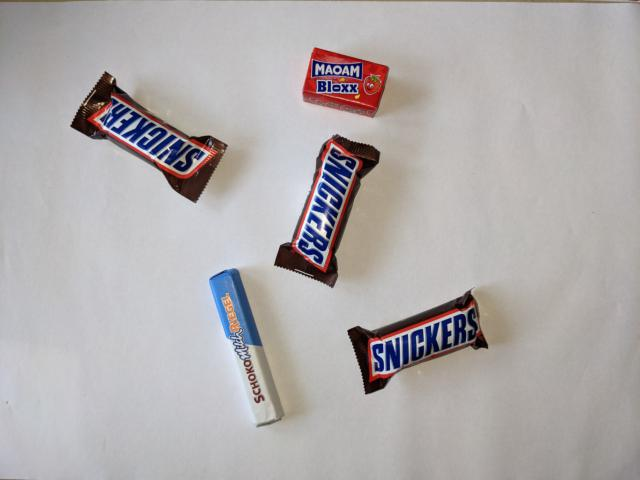MAOAM: (299, 44, 391, 120)
Schokoriegel: (205, 264, 289, 430)
Snickers: (66, 69, 231, 205), (270, 133, 383, 290), (344, 286, 492, 398)
